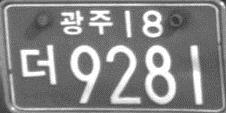1: (186, 42, 206, 106), (121, 7, 133, 39)
2: (104, 43, 141, 104)
8: (143, 44, 176, 104), (138, 9, 165, 39)
9: (67, 43, 100, 104)
광주_O: (59, 8, 113, 35)
더: (18, 42, 56, 87)
